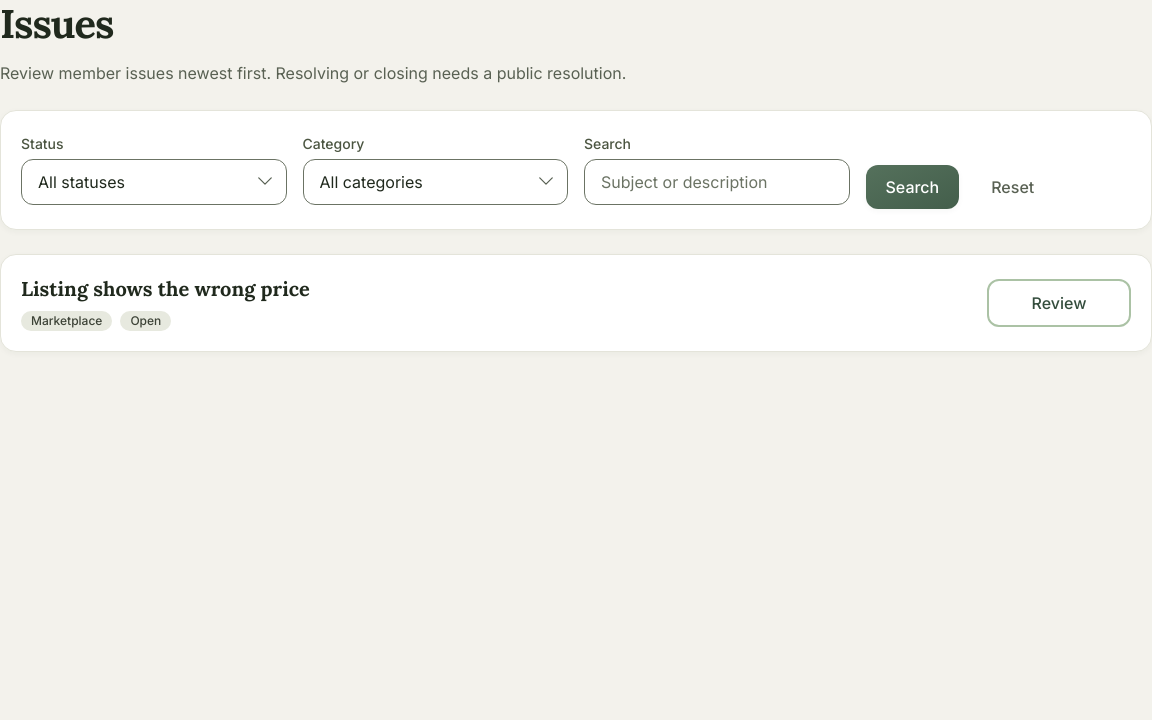
Test: AdminIssuesPage.vue › renders a safe reporter label when the author is deleted
This screenshot has width=1152, height=720.
What coordinates should you click on to do the following:
click the button "Review"
I would click on:
 (1059, 303)
Its box is [987,279,1131,327].
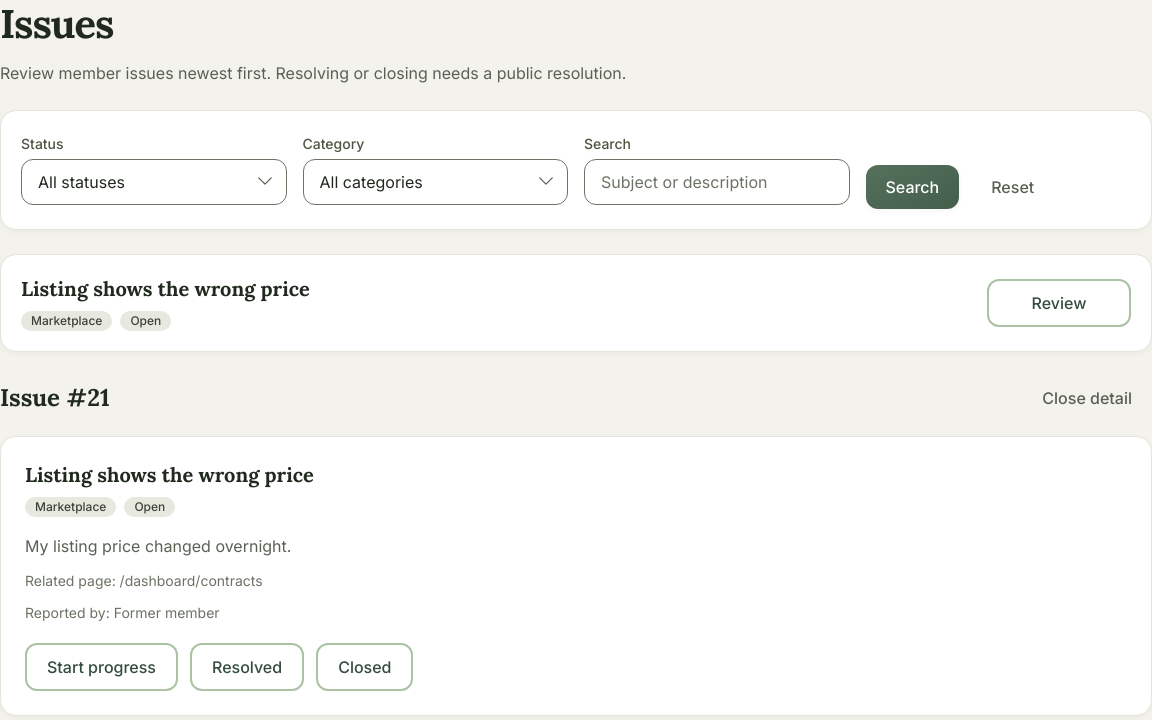
Check: the element named "Issue detail" shows "Former member", box [25,604,220,621]
